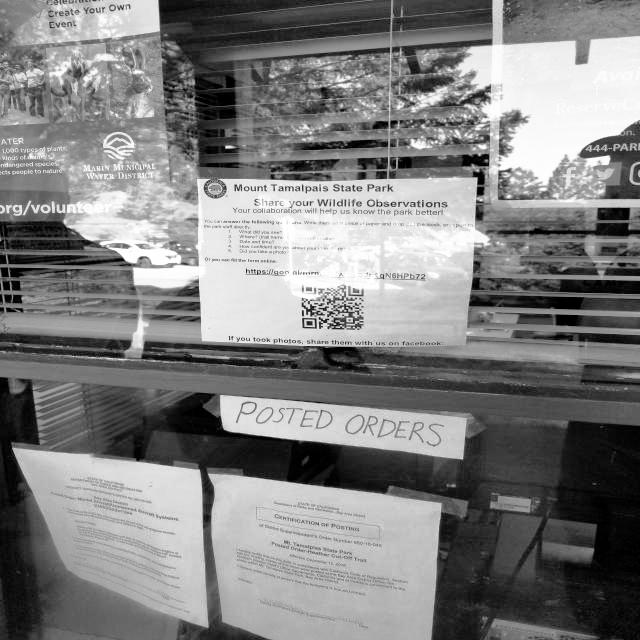qr_code: (289, 274, 380, 337)
